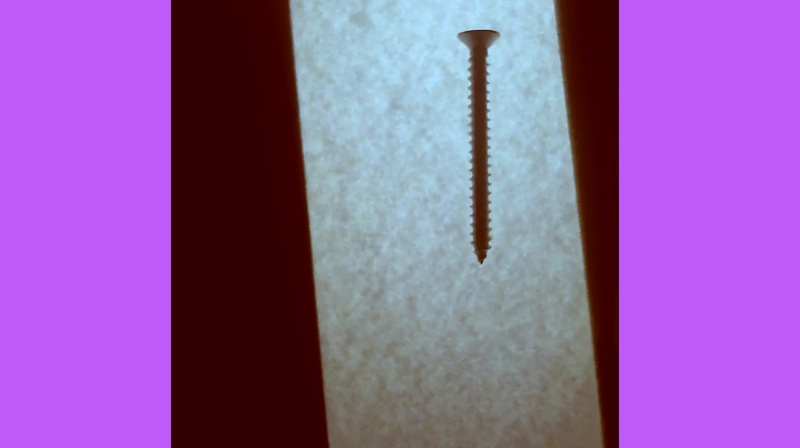S002: (453, 24, 504, 266)
